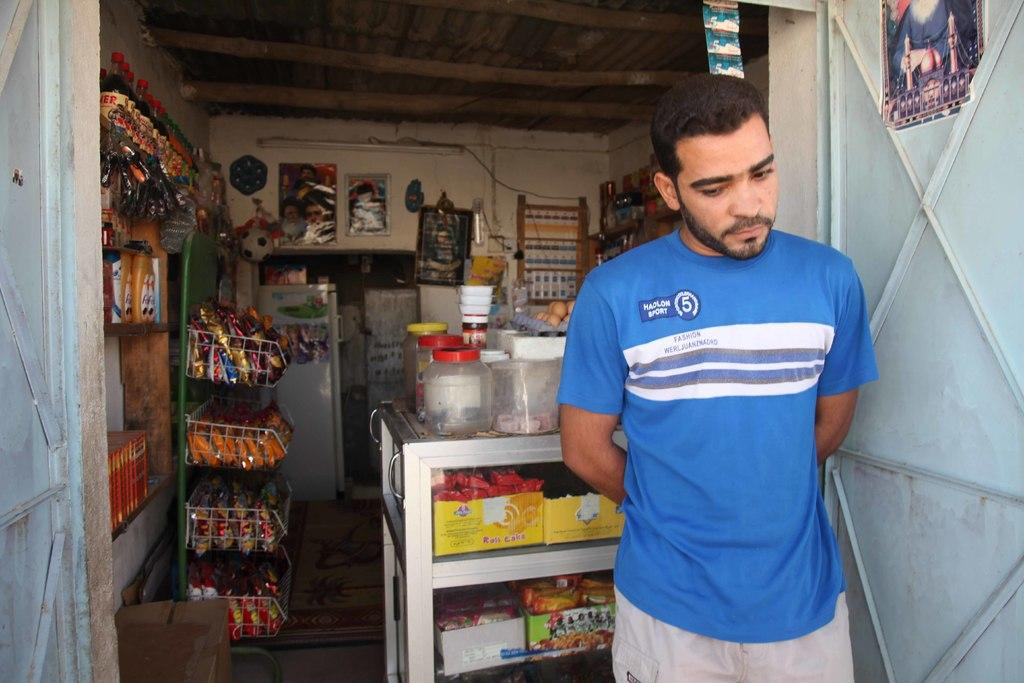handle: (385, 451, 408, 498), (364, 408, 386, 443), (334, 306, 350, 352)
